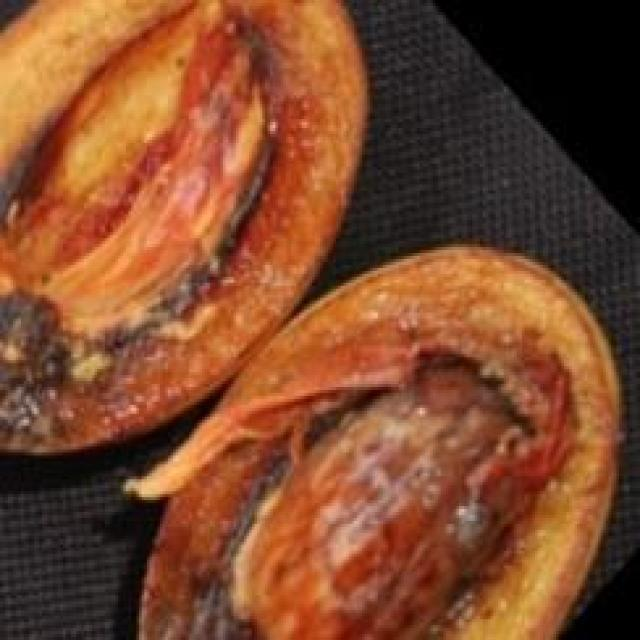damaged: (121, 244, 622, 637), (0, 0, 370, 458)
